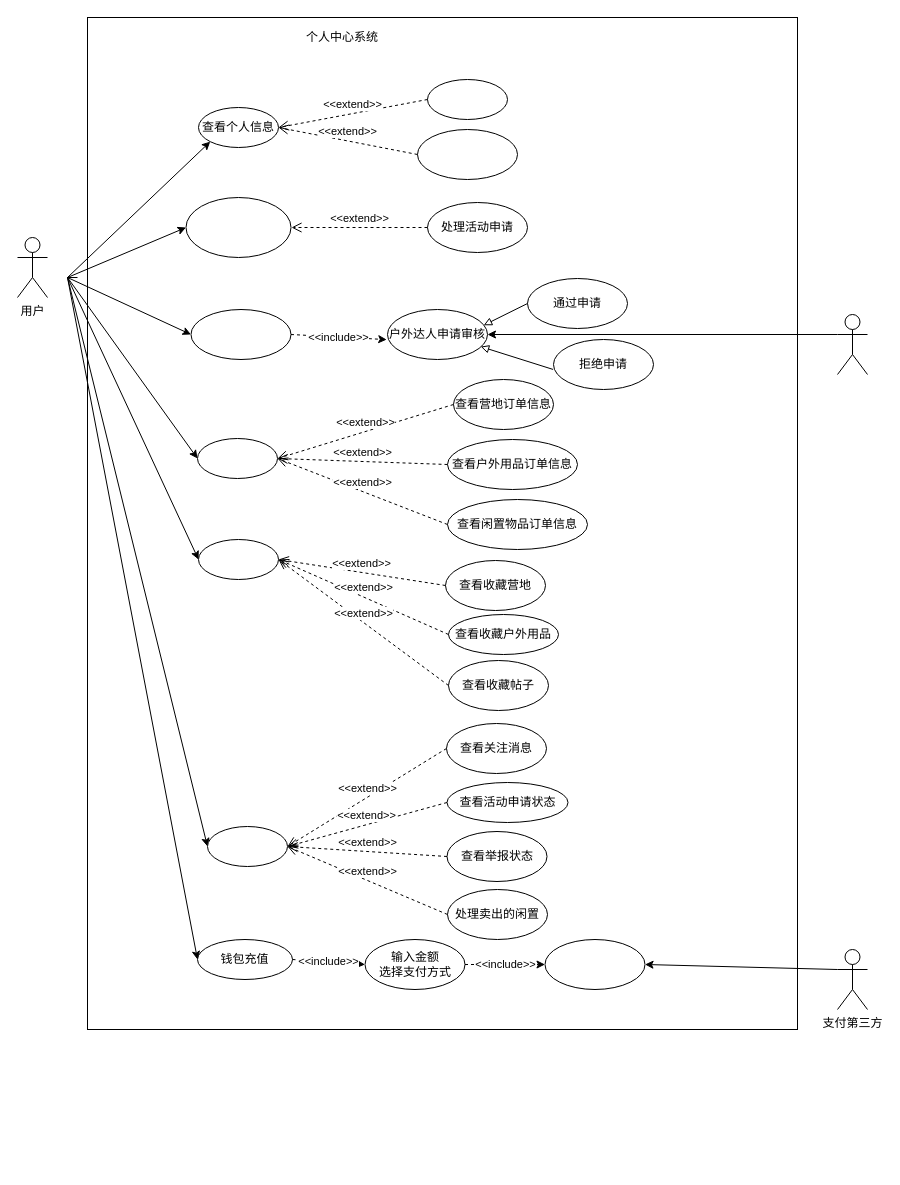
This 900x1185 diagram has some shape labels left out. The shapes that lost their labels are listed below. From the top down, each one's centre as x and y in pixels, then its label:
At (467,99): "编辑个人信息".
At (467,154): "查看关注列表".
At (238,227): "查看我的帖子".
At (240,334): "户外达人申请".
At (852,344): "管理员".
At (237,458): "查看订单信息".
At (238,559): "收藏夹".
At (247,846): "查看消息".
At (594,964): "检验账户余额 满足金额数量".
